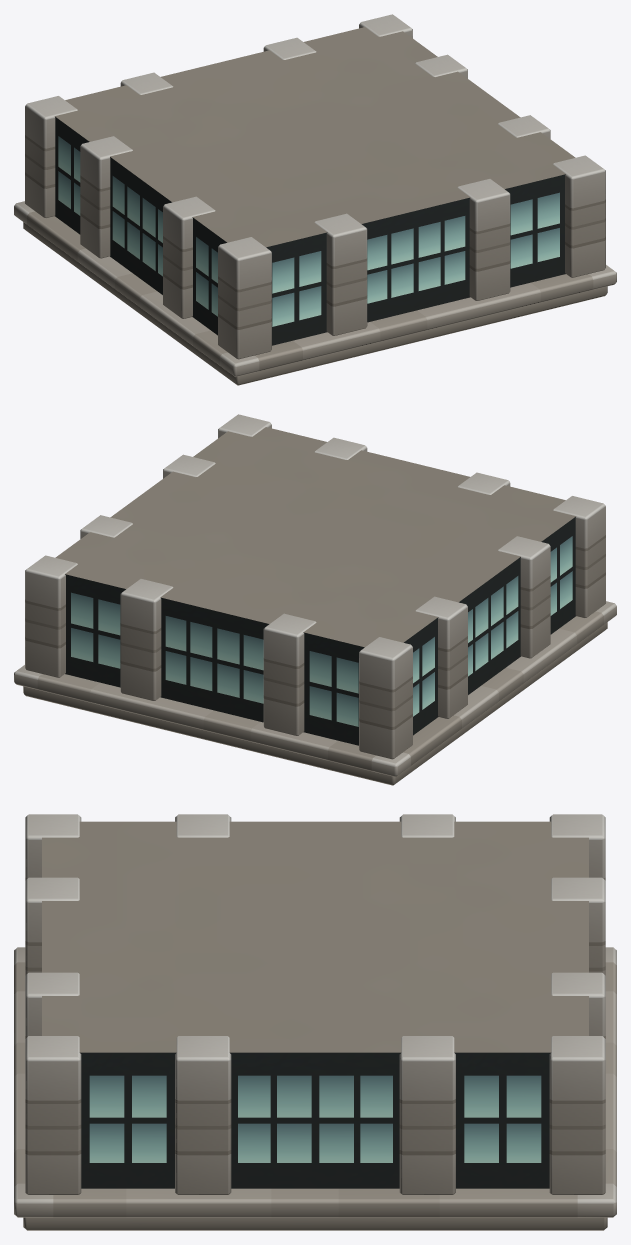
Rendered from office_building_type1_single_floor2_cream.fbx.
3 renders of one model, top to bottom at view 1: azimuth 30°, elevation 25°; view 2: azimuth 150°, elevation 25°; view 3: azimuth 270°, elevation 25°, orthographic. The views are drawn at different scales.
Parts seen in each view (by area): view 1: office_building_type1_single_floor2_cream; view 2: office_building_type1_single_floor2_cream; view 3: office_building_type1_single_floor2_cream.
Boxes of the visible parts, bbox=[...] form: office_building_type1_single_floor2_cream: bbox=[14, 14, 616, 385]; office_building_type1_single_floor2_cream: bbox=[14, 414, 616, 785]; office_building_type1_single_floor2_cream: bbox=[14, 814, 616, 1230].
Bounding box in the file's own units: 1610 × 509 × 1610.
